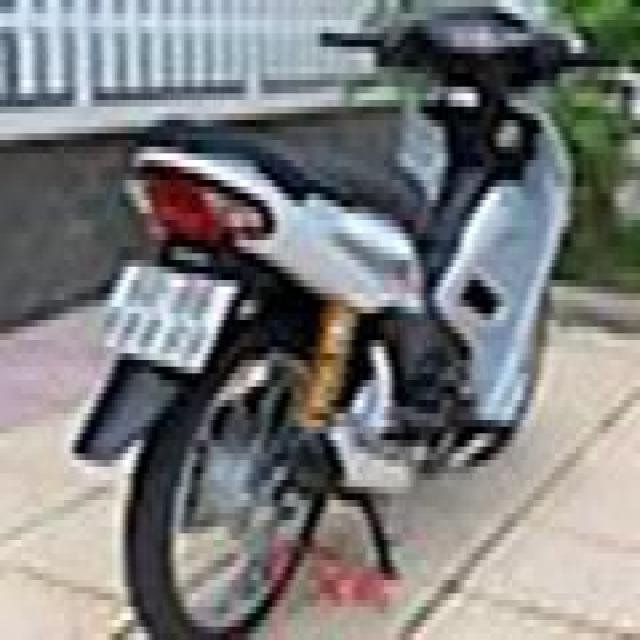motorcycle: (34, 26, 608, 640)
